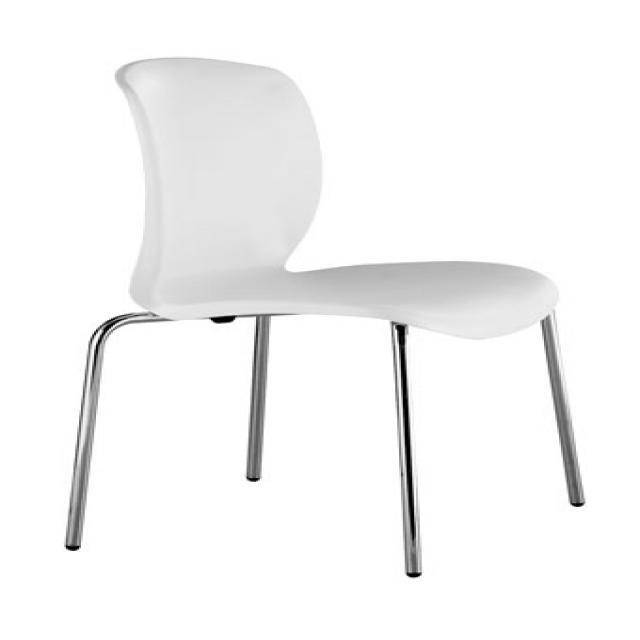chair: (59, 53, 586, 575)
